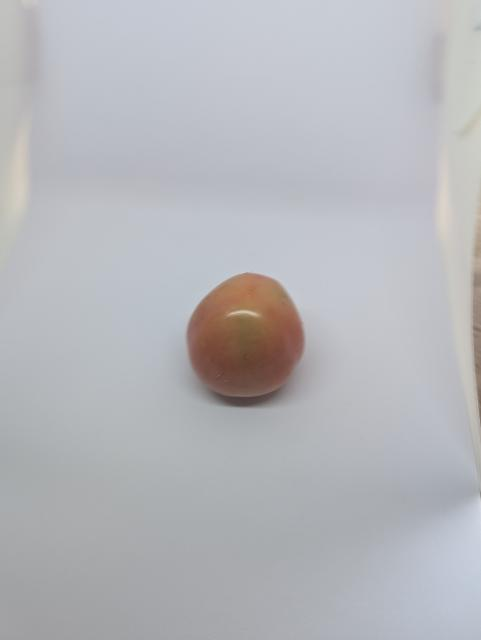turning: (183, 269, 310, 402)
